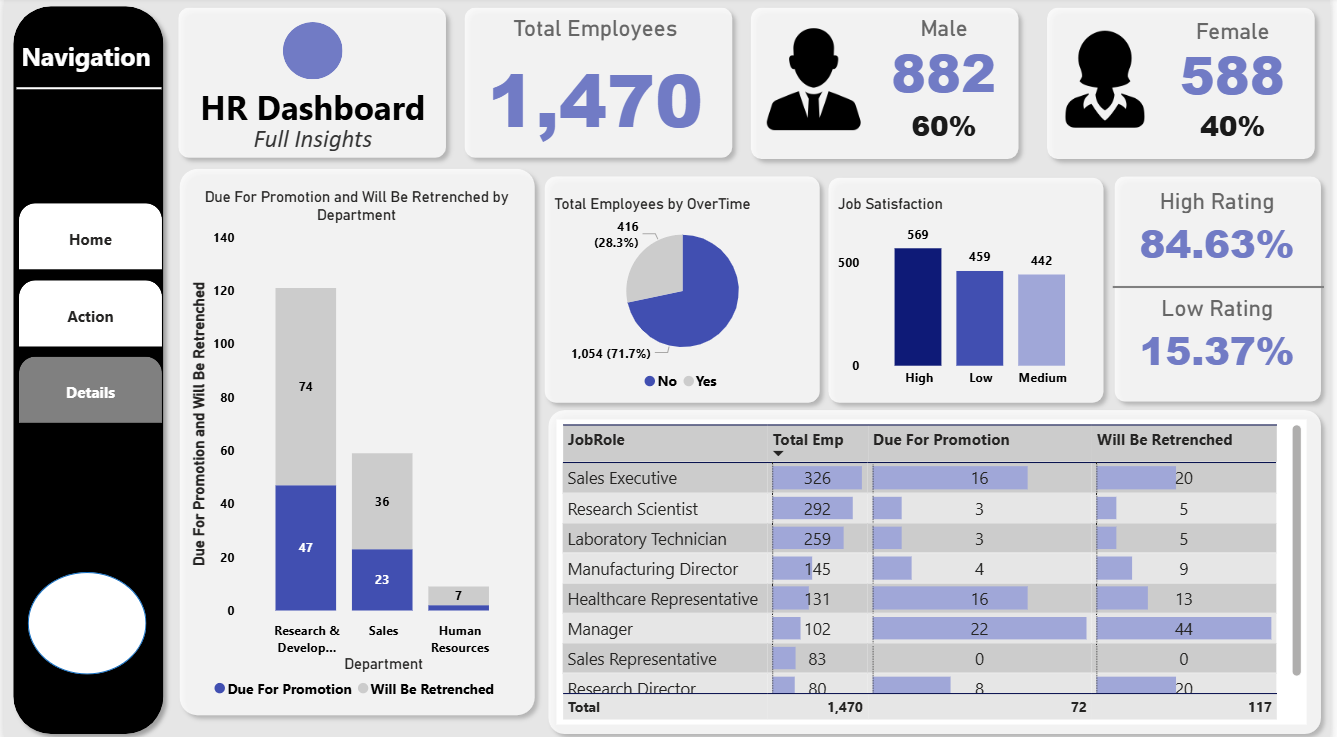

The dashboard page shown, as its layout file describes it:
{"tool":"powerbi","page":{"name":"Details","canvas":[1280,720],"ordinal":2},"visuals":[{"type":"shape","box":[786.6,165.3,283.5,235.3],"z":0},{"type":"shape","box":[0,0,162.9,720.2],"z":1000},{"type":"shape","box":[159,0.9,276.3,162.9],"z":2000},{"type":"shape","box":[435.3,0.9,276.3,162.9],"z":3000},{"type":"shape","box":[711.6,0.9,276.3,164.1],"z":4000},{"type":"shape","box":[997.7,0.9,276.3,164.1],"z":5000},{"type":"textbox","box":[174.7,79.3,246.1,74.8],"z":6000},{"type":"textbox","box":[174.9,117,246.1,47.1],"z":7000},{"type":"shape","box":[268.8,23.8,57.9,55.5],"z":8000},{"type":"card","title":"Total Employees","fields":{"Values":["All Measures.Total Emp"]},"box":[449.8,17.8,241.3,130.3],"z":9000},{"type":"card","title":"Male","fields":{"Values":["All Measures.Male"]},"box":[846.5,17.8,120.6,80.8],"z":10000},{"type":"card","title":"Male","fields":{"Values":["All Measures.% Male"]},"box":[868.6,96.5,77.2,57.9],"z":11000},{"type":"card","title":"Female","fields":{"Values":["All Measures.Female"]},"box":[1125.8,20.1,120.6,80.8],"z":12000},{"type":"card","title":"Male","fields":{"Values":["All Measures.% Female"]},"box":[1147.3,96.5,77.2,57.9],"z":13000},{"type":"image","box":[1010.8,25,103.8,108.6],"z":14000},{"type":"image","box":[727.3,25,108.6,108.6],"z":15000},{"type":"shape","box":[160.5,156.8,360.7,545.3],"z":16000},{"type":"columnChart","fields":{"Category":["HR Analytics Data.Department"],"Y":["All Measures.Due For Promotion","All Measures.Will Be Retrenched"]},"box":[174.9,184.6,330.6,501.9],"z":17000},{"type":"columnChart","title":"Job Satisfaction","fields":{"Category":["HR Analytics Data.Job Satisfaction"],"Y":["All Measures.Total Emp"]},"box":[799.9,190.6,255.8,195.4],"z":18000},{"type":"shape","box":[512.7,164.1,283.5,236.5],"z":19000},{"type":"pieChart","title":"Total Employees by OverTime","fields":{"Category":["HR Analytics Data.OverTime"],"Y":["All Measures.Total Emp"]},"box":[526,190.6,258.2,199.1],"z":20000},{"type":"shape","box":[516.4,389.7,763.7,330.6],"z":21000},{"type":"tableEx","fields":{"Values":["HR Analytics Data.JobRole","All Measures.Total Emp","All Measures.Due For Promotion","All Measures.Will Be Retrenched"]},"box":[533.2,407.8,723.9,294.4],"z":22000},{"type":"shape","box":[1062.9,164.1,217.2,235.3],"z":23000},{"type":"shape","box":[1070.1,270.2,203.9,19.3],"z":24000},{"type":"card","title":"High Rating","fields":{"Values":["All Measures.% High Emp Rating"]},"box":[1073.7,184.6,194.2,80.8],"z":25000},{"type":"card","title":"Low Rating","fields":{"Values":["All Measures.% Low Emp Rating"]},"box":[1073.7,288.3,194.2,80.8],"z":26000},{"type":"shape","box":[12.1,79.6,139.9,16.9],"z":27000},{"type":"textbox","box":[3.6,36.2,150.8,43.4],"z":28000},{"type":"pageNavigator","box":[14.5,199.1,138.7,213.5],"z":29000},{"type":"shape","box":[22.9,555,114.6,98.9],"z":30000}]}

Visuals, with their boxes in screenshot pixels (x1, y1, x2, y2), scaled from the page's 1280x720 canvas onto the 1337x737 screenshot:
shape: (822, 169, 1118, 410)
shape: (0, 0, 170, 736)
shape: (166, 1, 455, 168)
shape: (455, 1, 743, 168)
shape: (743, 1, 1032, 169)
shape: (1042, 1, 1331, 169)
textbox: (182, 81, 440, 158)
textbox: (183, 120, 440, 168)
shape: (281, 24, 341, 81)
"Total Employees" card: (470, 18, 722, 152)
"Male" card: (884, 18, 1010, 101)
"Male" card: (907, 99, 988, 158)
"Female" card: (1176, 21, 1302, 103)
"Male" card: (1198, 99, 1279, 158)
image: (1056, 26, 1164, 137)
image: (760, 26, 873, 137)
shape: (168, 161, 544, 719)
columnChart - HR Analytics Data.Department x All Measures.Due For Promotion: (183, 189, 528, 703)
"Job Satisfaction" columnChart: (836, 195, 1103, 395)
shape: (536, 168, 832, 410)
"Total Employees by OverTime" pieChart: (549, 195, 819, 399)
shape: (539, 399, 1336, 736)
tableEx - HR Analytics Data.JobRole x All Measures.Total Emp: (557, 417, 1313, 719)
shape: (1110, 168, 1336, 409)
shape: (1118, 277, 1331, 296)
"High Rating" card: (1122, 189, 1324, 272)
"Low Rating" card: (1122, 295, 1324, 378)
shape: (13, 81, 159, 99)
textbox: (4, 37, 161, 81)
pageNavigator: (15, 204, 160, 422)
shape: (24, 568, 144, 669)
